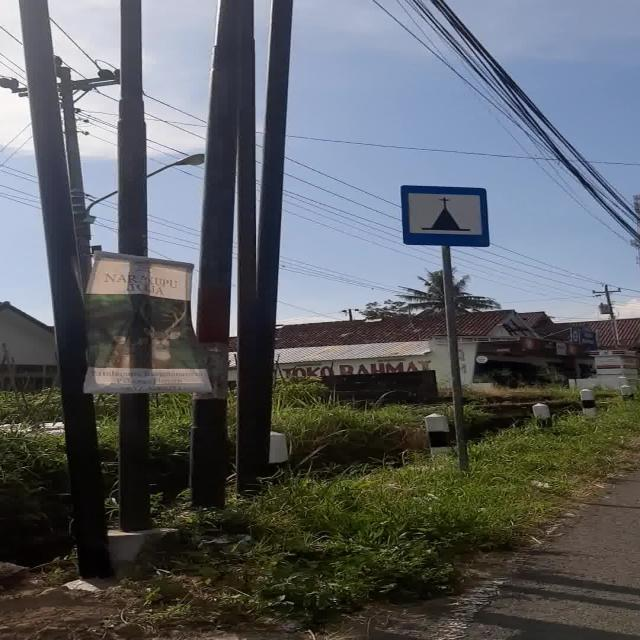Gereja: (400, 186, 490, 247)
